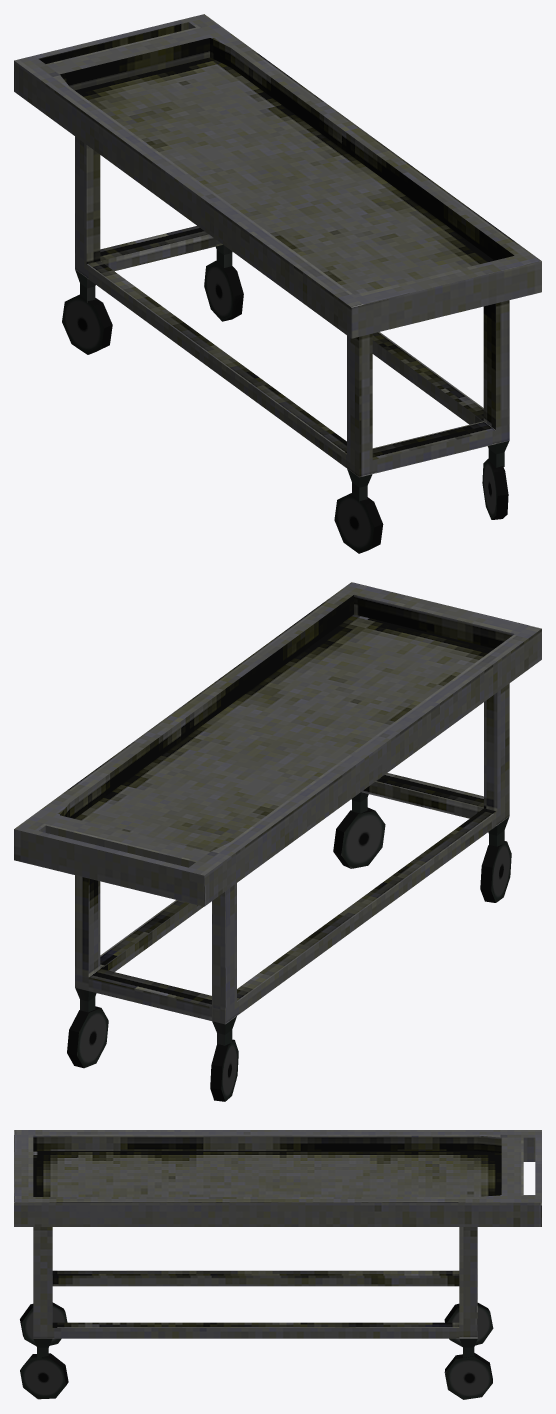
Rendered from SM_ExaminationTable.fbx.
3 views of the same model, one above another, from view 1: azimuth 30°, elevation 25°; view 2: azimuth 150°, elevation 25°; view 3: azimuth 270°, elevation 25° (orthographic). The views are drawn at different scales.
Visible parts, largest first — view 1: SM_ExaminationTable; view 2: SM_ExaminationTable; view 3: SM_ExaminationTable.
Part boxes in pixels (x1,y1,x2,y2): SM_ExaminationTable: (14, 14, 541, 553); SM_ExaminationTable: (14, 582, 541, 1101); SM_ExaminationTable: (14, 1130, 541, 1399).
Size of the model in its own units: 66.51 by 87.82 by 204.
